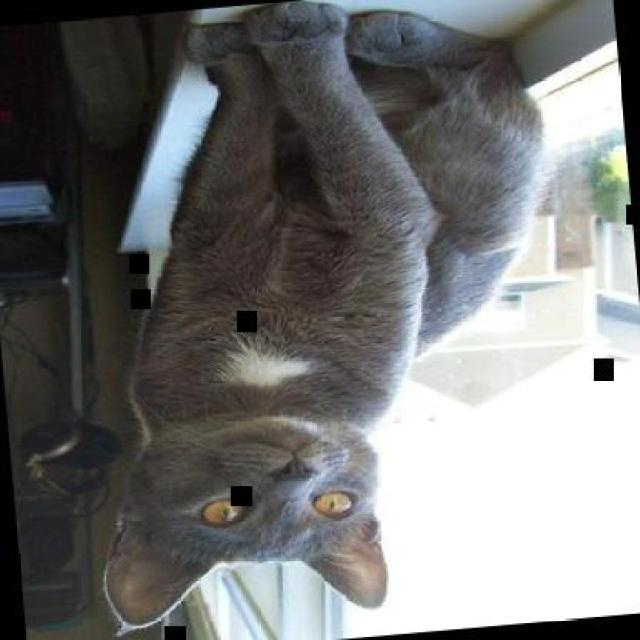cat: (52, 0, 581, 635)
